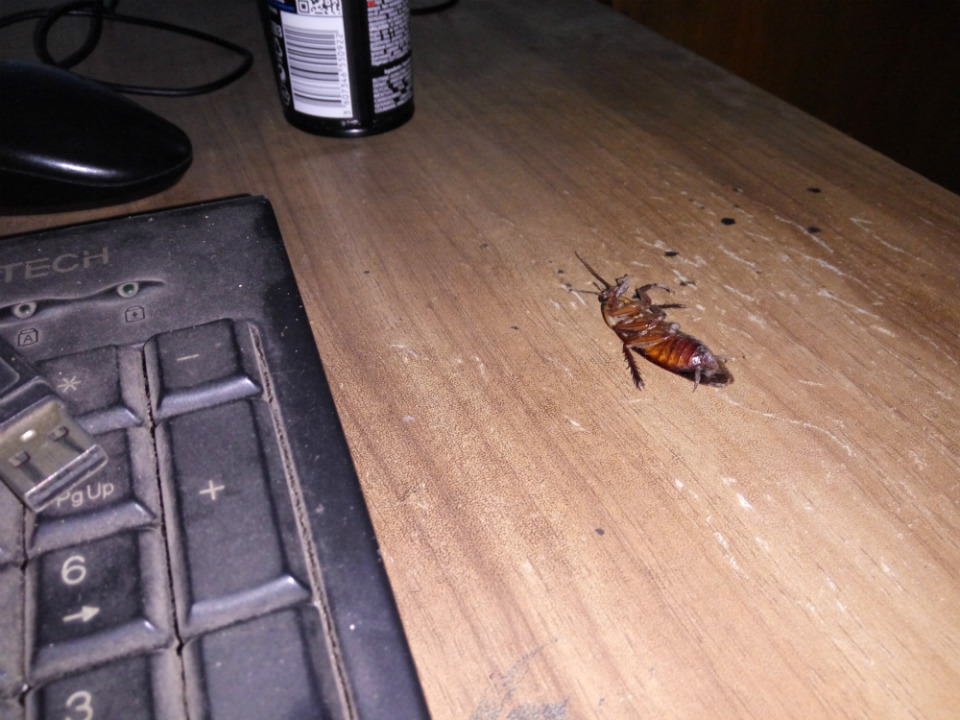cockroach: (425, 200, 844, 461)
